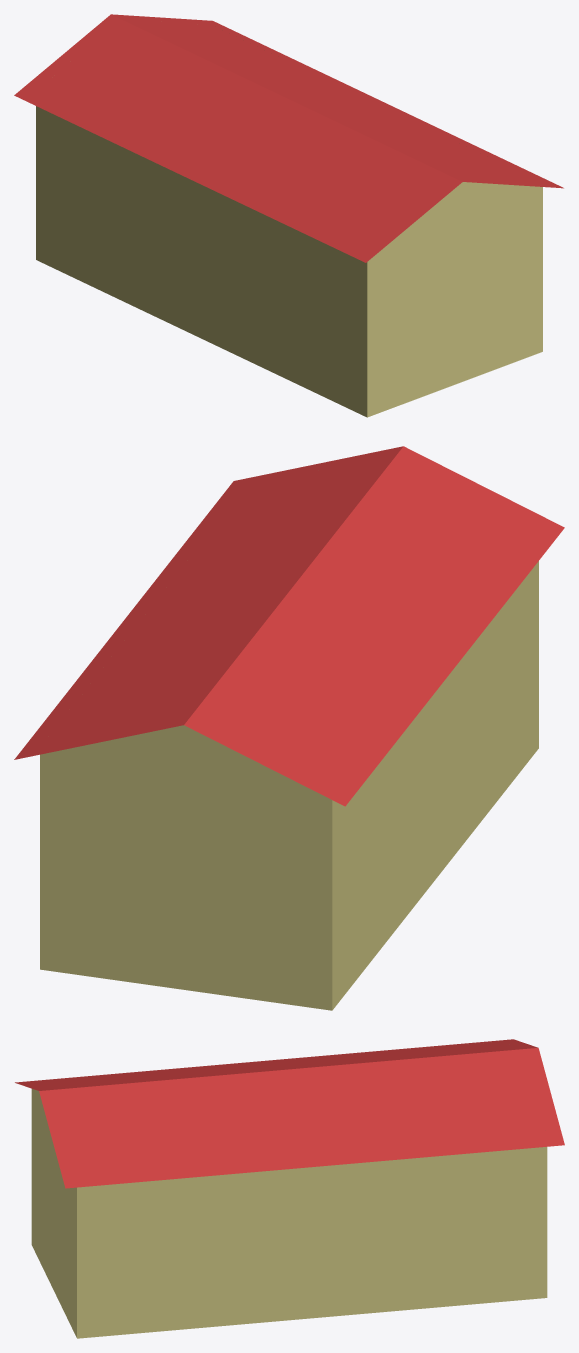
3 renders of one model, top to bottom at view 1: azimuth 30°, elevation 25°; view 2: azimuth 150°, elevation 25°; view 3: azimuth 270°, elevation 25°, orthographic. The views are drawn at different scales.
Bounding box in the file's own units: 11.74 × 18.32 × 7.36.
